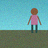person: (28, 8, 41, 33)
